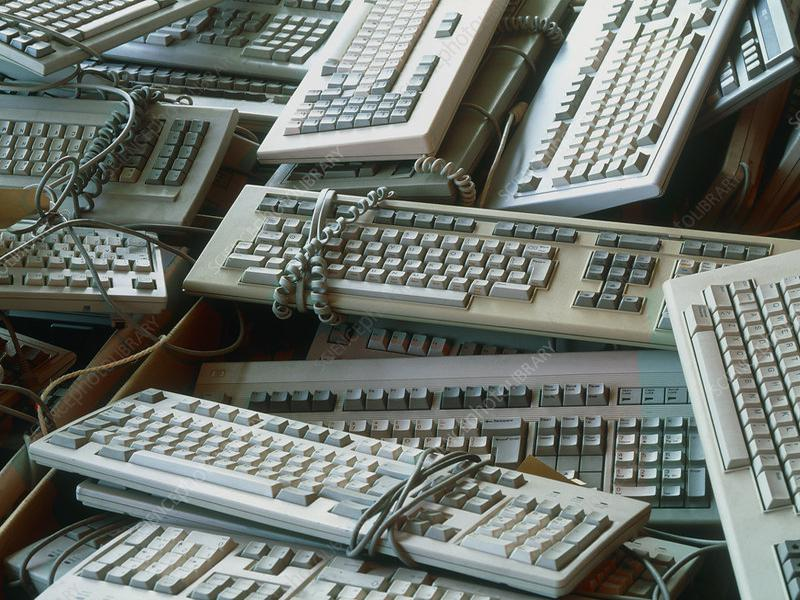keyboard: (24, 380, 656, 597), (182, 181, 800, 346), (496, 1, 746, 213), (663, 251, 800, 600), (254, 1, 509, 158), (3, 94, 243, 234)
